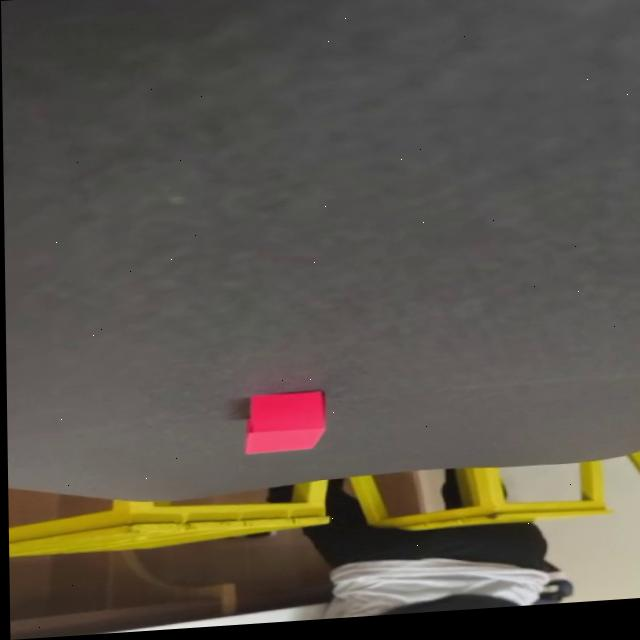red block: (241, 389, 325, 456)
